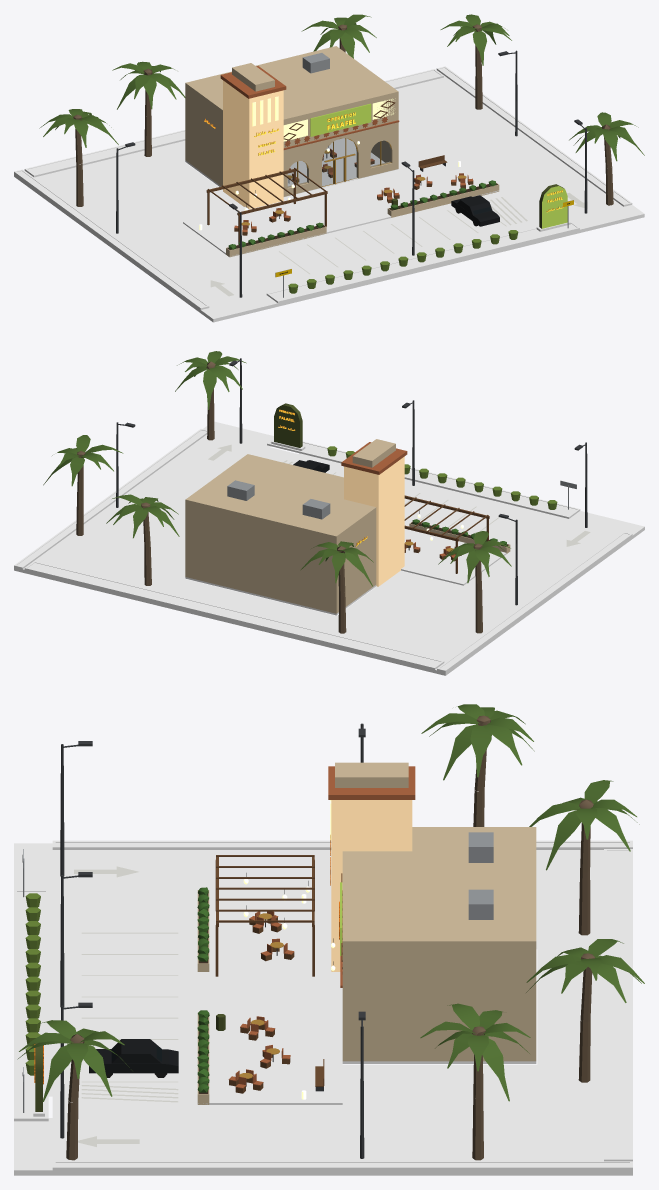
The model's file is operation_falafel_lod1.glb.
The picture shows the model from 3 angles, top to bottom: view 1: azimuth 30°, elevation 25°; view 2: azimuth 150°, elevation 25°; view 3: azimuth 270°, elevation 25°; orthographic projection. The views are drawn at different scales.
Parts seen in each view (by area): view 1: OPF_LOD1_Ground, OPF_LOD1_Building, OPF_LOD1_Landscape, OPF_LOD1_Furniture, OPF_LOD1_Glass, OPF_LOD1_Interior, OPF_LOD1_LampPosts, OPF_LOD1_Totem, OPF_LOD1_Vehicles, OPF_LOD1_Markings, OPF_LOD1_Signage, OPF_LOD1_Frames; view 2: OPF_LOD1_Ground, OPF_LOD1_Building, OPF_LOD1_Landscape, OPF_LOD1_Furniture, OPF_LOD1_LampPosts, OPF_LOD1_Totem, OPF_LOD1_Markings; view 3: OPF_LOD1_Ground, OPF_LOD1_Building, OPF_LOD1_Landscape, OPF_LOD1_Furniture, OPF_LOD1_LampPosts, OPF_LOD1_Markings, OPF_LOD1_Vehicles, OPF_LOD1_Totem.
Part boxes in pixels (<box>): OPF_LOD1_Ground: <box>14,66,644,322</box>; OPF_LOD1_Building: <box>185,46,399,209</box>; OPF_LOD1_Landscape: <box>39,14,644,293</box>; OPF_LOD1_Furniture: <box>199,155,499,257</box>; OPF_LOD1_Glass: <box>288,138,390,187</box>; OPF_LOD1_Interior: <box>287,138,384,186</box>; OPF_LOD1_LampPosts: <box>116,50,587,297</box>; OPF_LOD1_Totem: <box>536,184,570,231</box>; OPF_LOD1_Vehicles: <box>451,195,499,226</box>; OPF_LOD1_Markings: <box>210,192,587,296</box>; OPF_LOD1_Signage: <box>204,112,573,297</box>; OPF_LOD1_Frames: <box>297,138,391,186</box>; OPF_LOD1_Ground: <box>14,421,644,675</box>; OPF_LOD1_Building: <box>185,439,407,615</box>; OPF_LOD1_Landscape: <box>43,351,557,633</box>; OPF_LOD1_Furniture: <box>404,495,510,574</box>; OPF_LOD1_LampPosts: <box>116,358,587,605</box>; OPF_LOD1_Totem: <box>271,403,305,450</box>; OPF_LOD1_Markings: <box>208,444,590,546</box>; OPF_LOD1_Ground: <box>14,840,632,1175</box>; OPF_LOD1_Building: <box>328,762,536,1063</box>; OPF_LOD1_Landscape: <box>17,704,644,1160</box>; OPF_LOD1_Furniture: <box>197,855,324,1104</box>; OPF_LOD1_LampPosts: <box>60,723,365,1158</box>; OPF_LOD1_Markings: <box>74,866,178,1146</box>; OPF_LOD1_Vehicles: <box>89,1039,178,1077</box>; OPF_LOD1_Totem: <box>33,1043,44,1116</box>.
Size of what is drawn, in the model's own units: 43.19 by 11.2 by 32.62.
